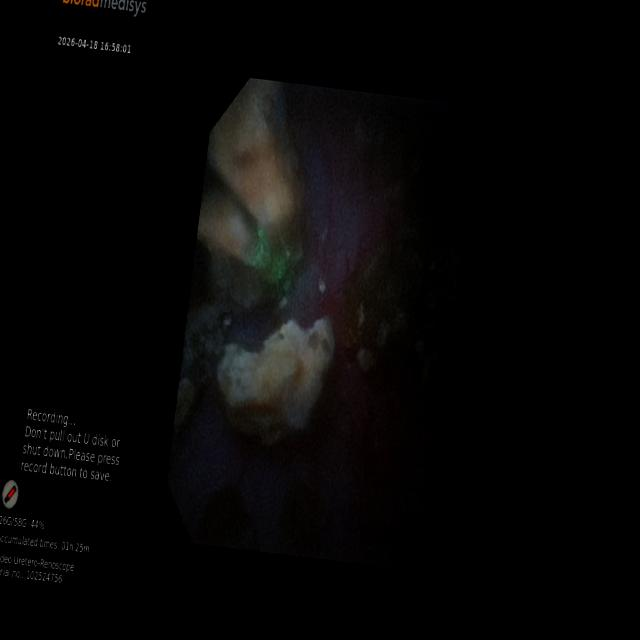laser-fibre: (196, 165, 259, 265)
laser_dot: (267, 249, 291, 290)
stone-new: (196, 78, 304, 307), (216, 316, 334, 444), (342, 241, 421, 371), (173, 306, 224, 431), (195, 485, 255, 549)
